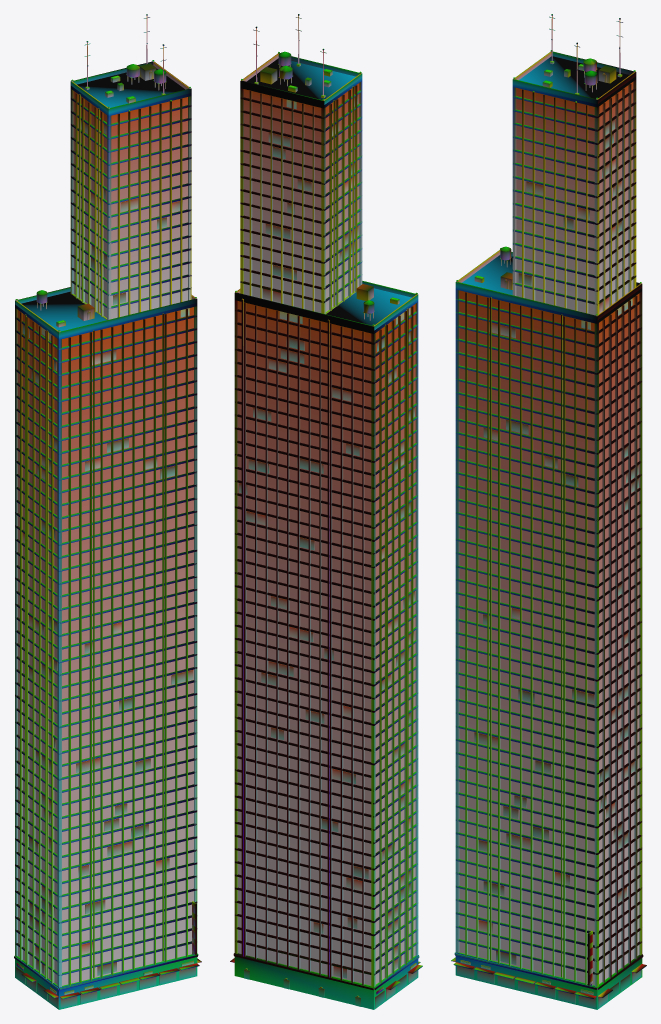
Rendered from Tower_Slab_V11.fbx.
3 renders of one model, left to right at view 1: azimuth 30°, elevation 25°; view 2: azimuth 150°, elevation 25°; view 3: azimuth 330°, elevation 25°, orthographic. The views are drawn at different scales.
Visible parts, largest first — view 1: Tower_Slab_V11_LOD0; view 2: Tower_Slab_V11_LOD0; view 3: Tower_Slab_V11_LOD0.
Part boxes in pixels (box(x1,y1,x2,y2)): Tower_Slab_V11_LOD0: box(14, 14, 201, 1009); Tower_Slab_V11_LOD0: box(230, 14, 422, 1009); Tower_Slab_V11_LOD0: box(451, 14, 646, 1009).
Size of what is drawn, in the model's own units: 42.8 by 259 by 24.31.
